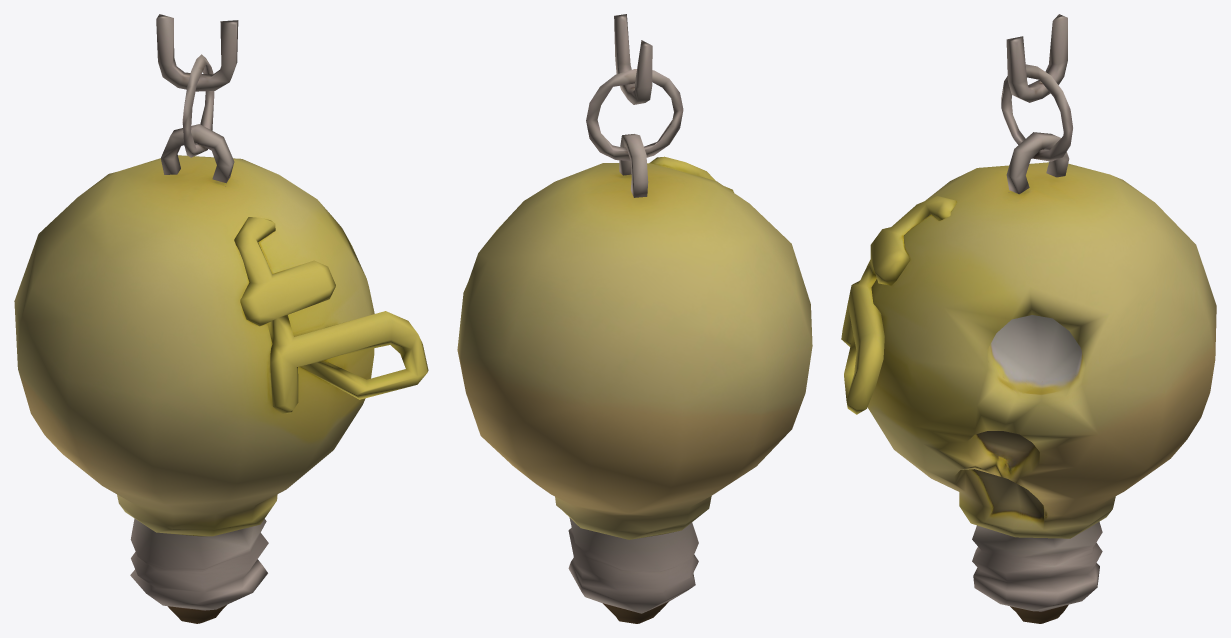
The model's file is charm_lampada.glb.
The picture shows the model from 3 angles, left to right: view 1: azimuth 30°, elevation 25°; view 2: azimuth 150°, elevation 25°; view 3: azimuth 270°, elevation 25°; orthographic projection.
Parts seen in each view (by area): view 1: tripo_node_d0e6ea20-bd48-41bf-990c-0c96e6e47545; view 2: tripo_node_d0e6ea20-bd48-41bf-990c-0c96e6e47545; view 3: tripo_node_d0e6ea20-bd48-41bf-990c-0c96e6e47545.
Part boxes in pixels (x1,y1,x2,y2): tripo_node_d0e6ea20-bd48-41bf-990c-0c96e6e47545: (14,14,428,623); tripo_node_d0e6ea20-bd48-41bf-990c-0c96e6e47545: (457,14,812,623); tripo_node_d0e6ea20-bd48-41bf-990c-0c96e6e47545: (841,14,1216,623).
Bounding box in the file's own units: 0.5449 × 0.998 × 0.5723.
Materials: 1 (1 with a texture image).
